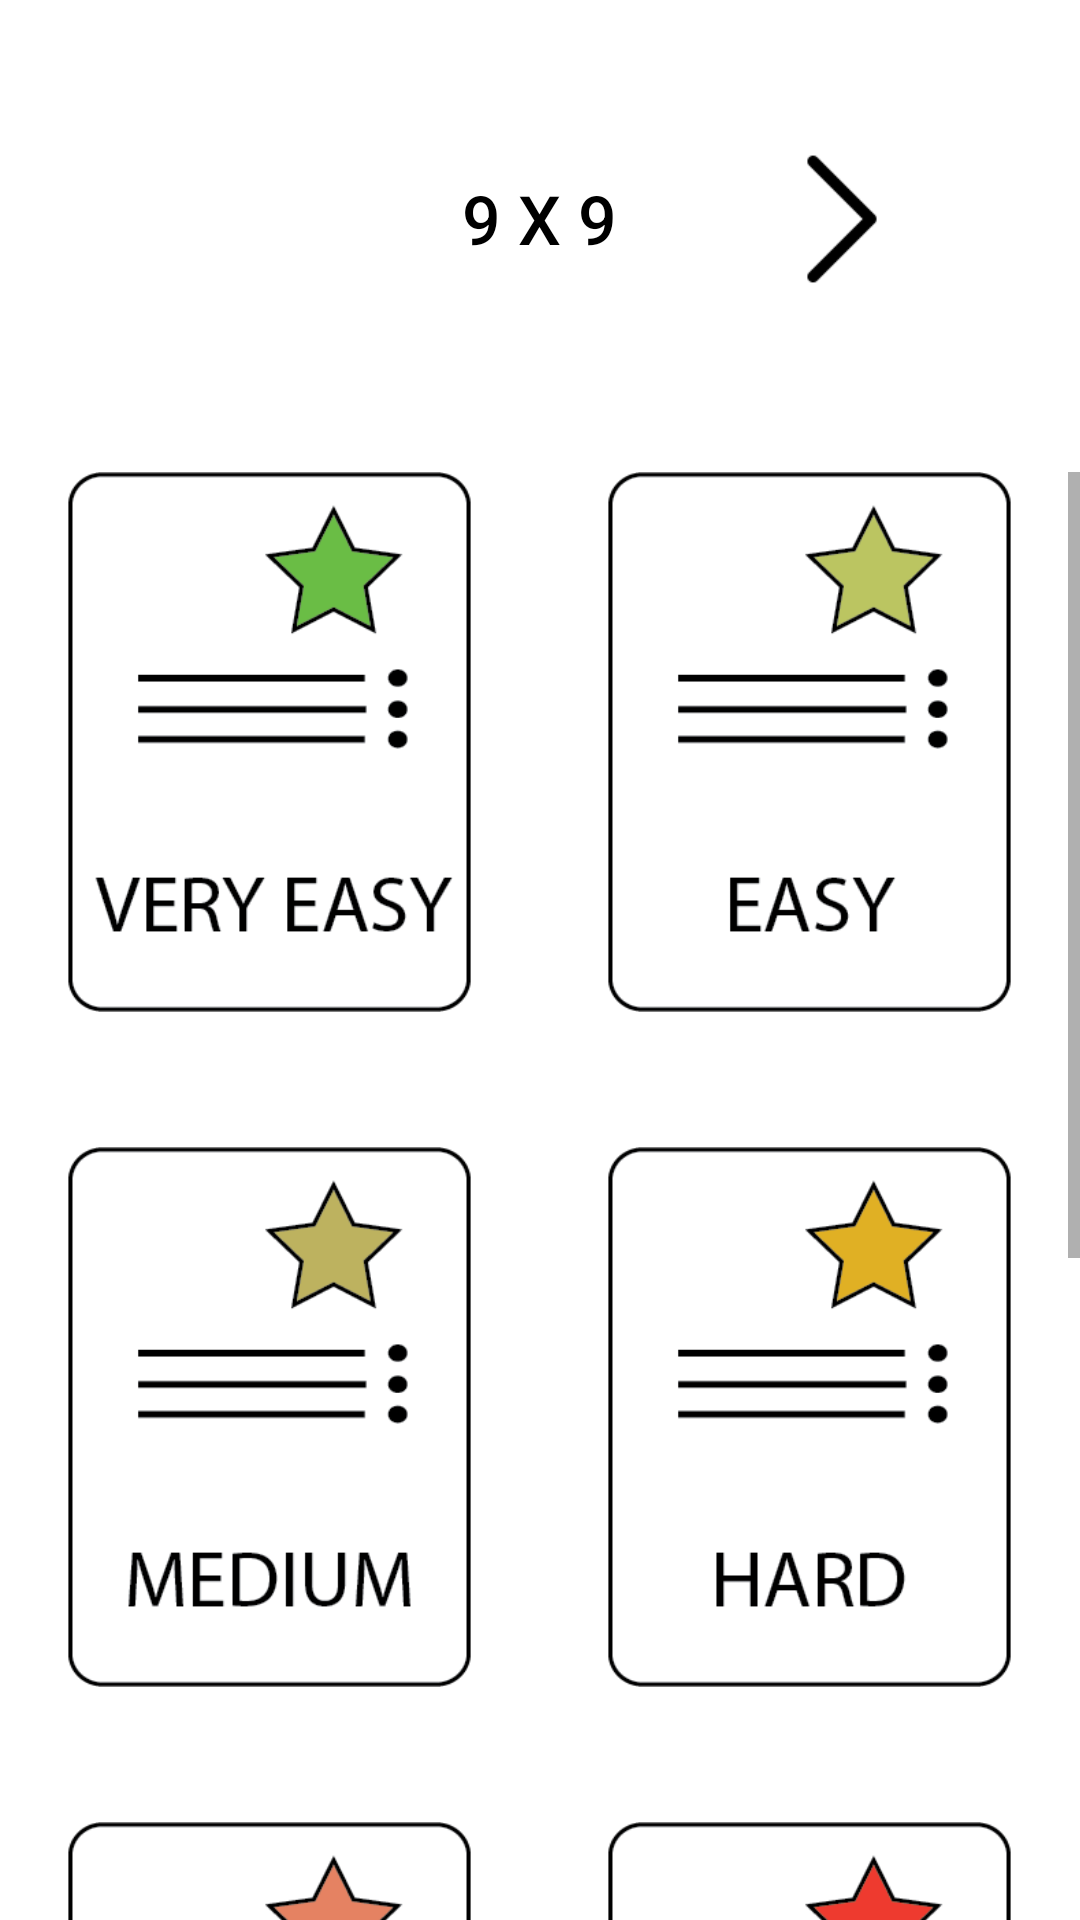

Icons on this 1080x1920 Android screen, each with the point to tap as (x=x, y=y):
next: (x=842, y=219)
